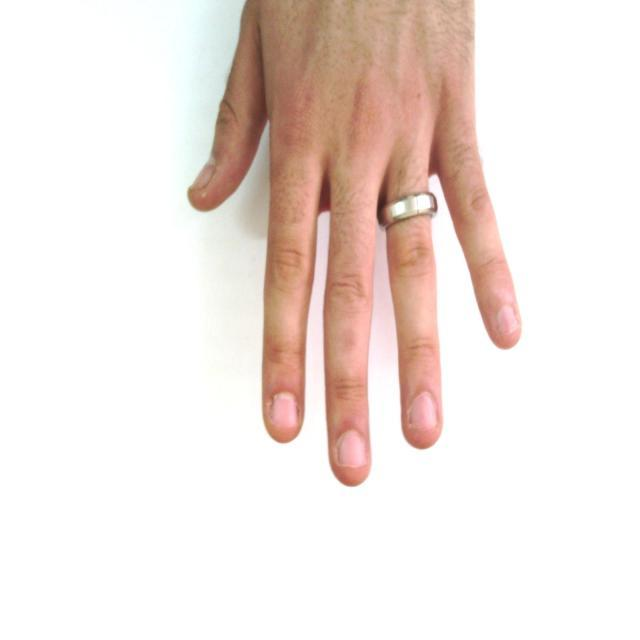Fingernail: (338, 432, 366, 467), (272, 394, 297, 431), (410, 395, 437, 429), (191, 160, 214, 190), (498, 306, 519, 335)
